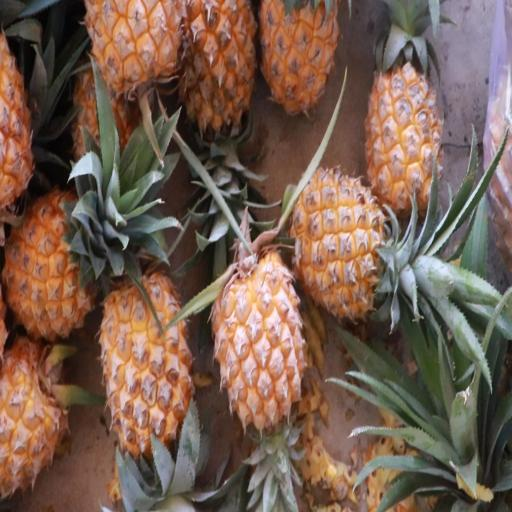Pineapple - v8 v1: (95, 262, 196, 465), (210, 244, 310, 436), (362, 0, 448, 218), (286, 161, 399, 326), (3, 179, 97, 348), (84, 0, 193, 127), (174, 0, 261, 158), (253, 0, 340, 137), (2, 332, 68, 507)
